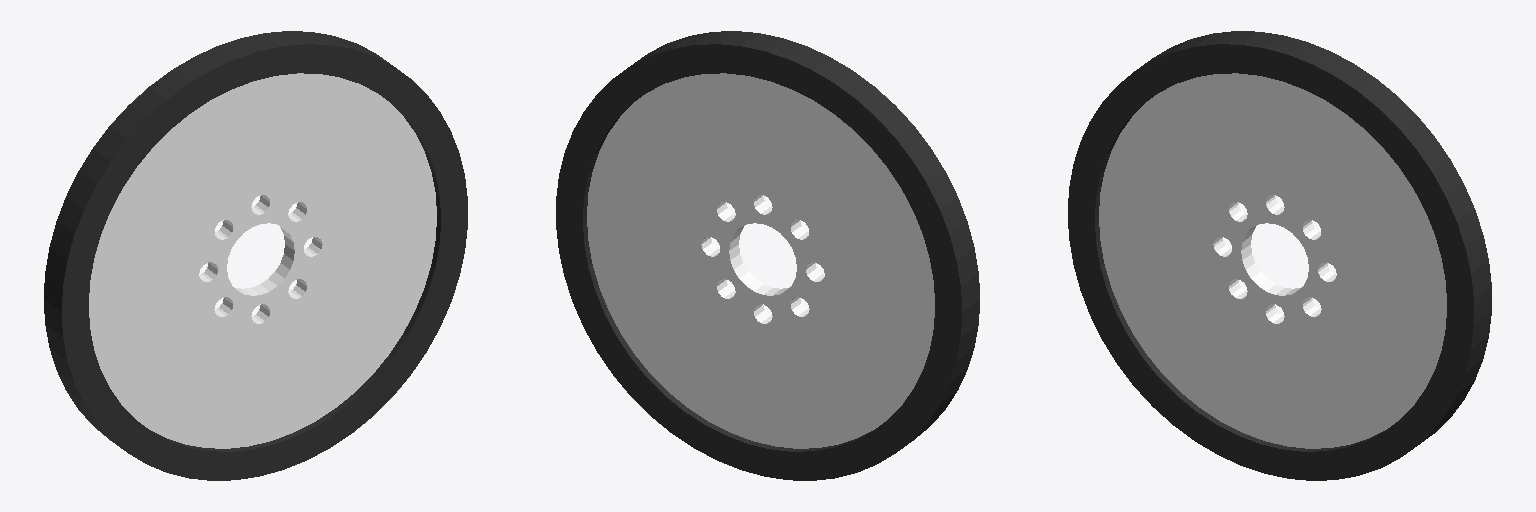
Rendered from ROB-12516.obj.
The picture shows the model from 3 angles: view 1: azimuth 30°, elevation 25°; view 2: azimuth 150°, elevation 25°; view 3: azimuth 330°, elevation 25°; orthographic projection.
Parts seen in each view (by area): view 1: mesh 2 Boss-Extrude1, mesh 1 RO; view 2: mesh 2 Boss-Extrude1, mesh 1 RO; view 3: mesh 2 Boss-Extrude1, mesh 1 RO.
Part boxes in pixels (x1,y1,x2,y2): mesh 2 Boss-Extrude1: (89,73,436,448); mesh 1 RO: (44,31,467,480); mesh 2 Boss-Extrude1: (587,73,934,448); mesh 1 RO: (556,31,979,480); mesh 2 Boss-Extrude1: (1099,73,1446,448); mesh 1 RO: (1068,31,1491,480).
Bounding box in the file's own units: 0.0762 × 0.0762 × 0.0058.